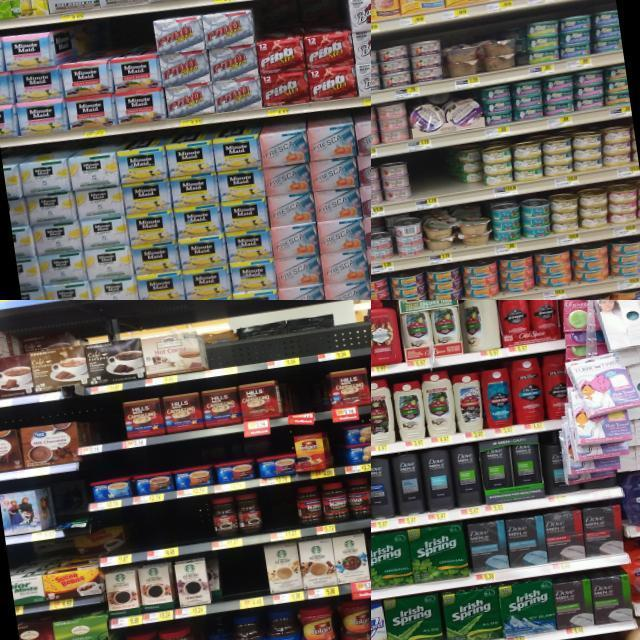empty: (141, 499, 211, 560), (221, 545, 271, 611), (312, 309, 371, 361), (204, 328, 264, 376), (408, 149, 451, 210), (262, 321, 316, 368), (260, 486, 300, 542), (90, 400, 127, 452), (118, 510, 147, 563), (290, 375, 322, 423)
